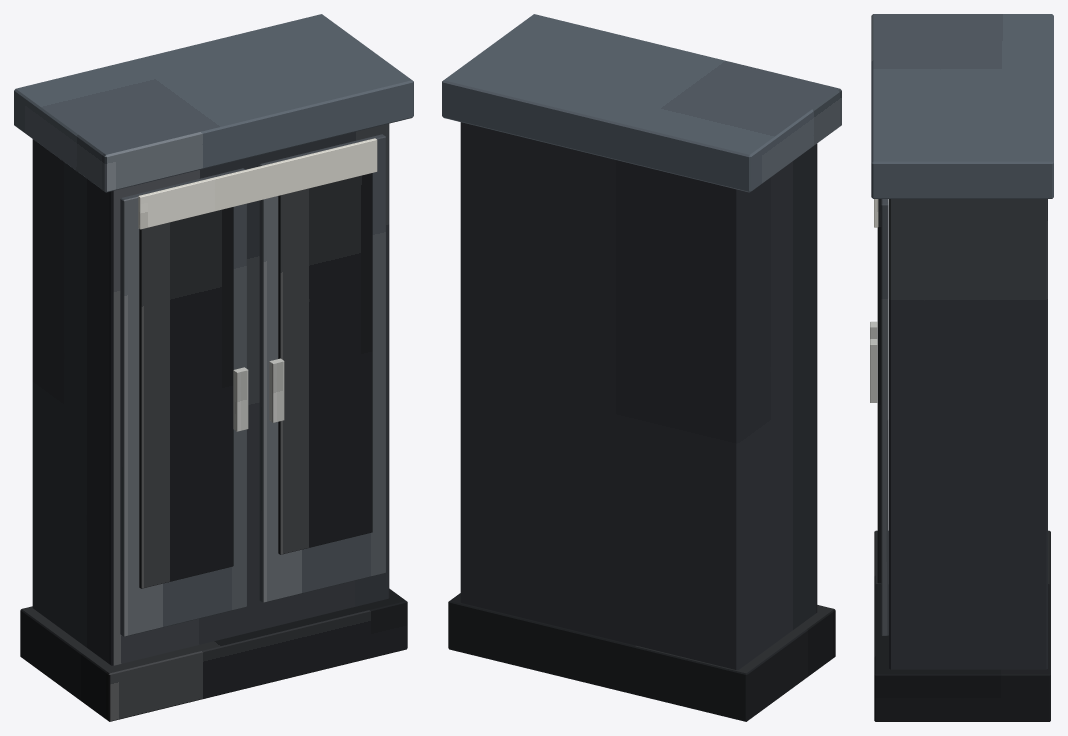
File: bedroom_wardrobe_charcoal.glb
The picture shows the model from 3 angles, left to right: view 1: azimuth 30°, elevation 25°; view 2: azimuth 150°, elevation 25°; view 3: azimuth 270°, elevation 25°; orthographic projection.
Parts seen in each view (by area): view 1: WardrobeBody, WardrobeCrown, WardrobeInset_1, WardrobeInset_2, WardrobePlinth, WardrobeDoor_1, WardrobeDoor_2, WardrobeCarvedBand, WardrobeHandle_1, WardrobeHandle_2; view 2: WardrobeBody, WardrobeCrown, WardrobePlinth; view 3: WardrobeBody, WardrobeCrown, WardrobePlinth, WardrobeDoor_2, WardrobeInset_2, WardrobeHandle_2.
Boxes of the visible parts, x1,y1,x2,y2 form: WardrobeBody: (32, 123, 389, 665); WardrobeCrown: (14, 14, 413, 192); WardrobeInset_1: (139, 207, 233, 588); WardrobeInset_2: (278, 173, 372, 554); WardrobePlinth: (20, 588, 407, 721); WardrobeDoor_1: (120, 168, 246, 636); WardrobeDoor_2: (259, 134, 385, 602); WardrobeCarvedBand: (138, 138, 377, 229); WardrobeHandle_1: (233, 367, 248, 431); WardrobeHandle_2: (269, 358, 284, 422); WardrobeBody: (460, 122, 817, 669); WardrobeCrown: (442, 14, 841, 192); WardrobePlinth: (448, 593, 835, 721); WardrobeBody: (889, 199, 1047, 669); WardrobeCrown: (871, 14, 1053, 198); WardrobePlinth: (874, 530, 1050, 721); WardrobeDoor_2: (881, 199, 888, 635); WardrobeInset_2: (877, 199, 881, 583); WardrobeHandle_2: (870, 339, 877, 402).
Size of the model in its own units: 1.2 by 2.11 by 0.6245.
Materials: 1 (1 with a texture image).
